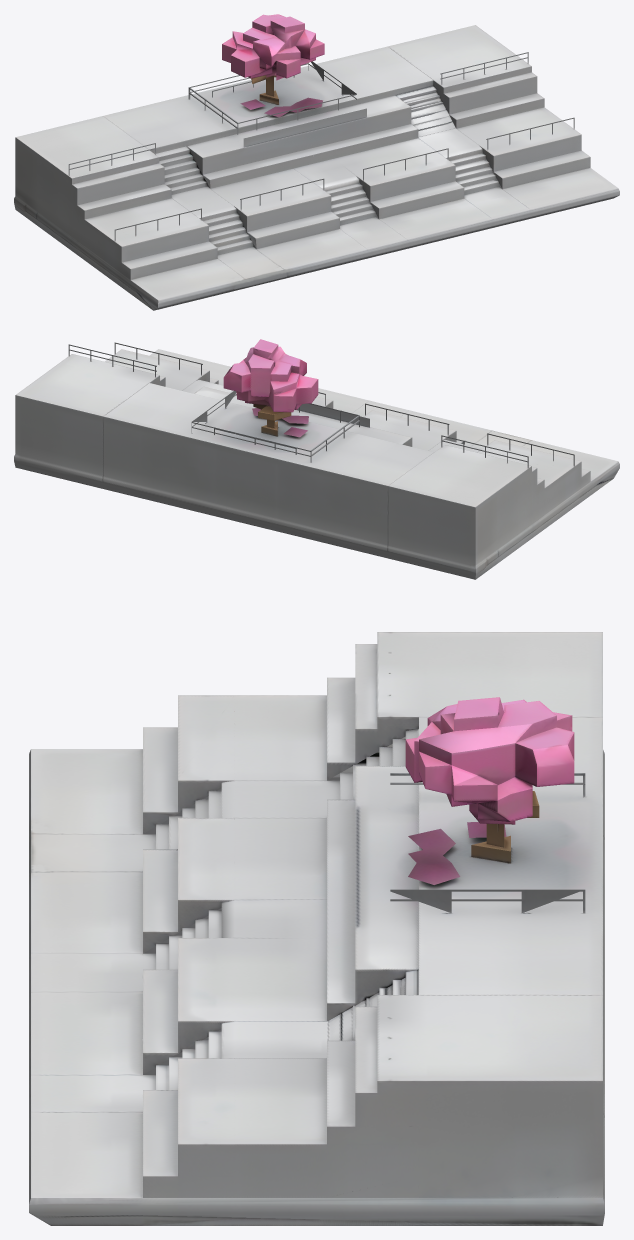
The model's file is muelle1.obj.
3 renders of one model, top to bottom at view 1: azimuth 30°, elevation 25°; view 2: azimuth 150°, elevation 25°; view 3: azimuth 270°, elevation 25°, orthographic. The views are drawn at different scales.
Visible parts, largest first — view 1: model; view 2: model; view 3: model.
Part boxes in pixels (x1=…): model: x1=14, y1=14, x2=619, y2=310; model: x1=14, y1=339, x2=619, y2=579; model: x1=29, y1=632, x2=604, y2=1225.
Size of the model in its own units: 1.9 by 0.5969 by 1.03.
1 material, 1 textured.
